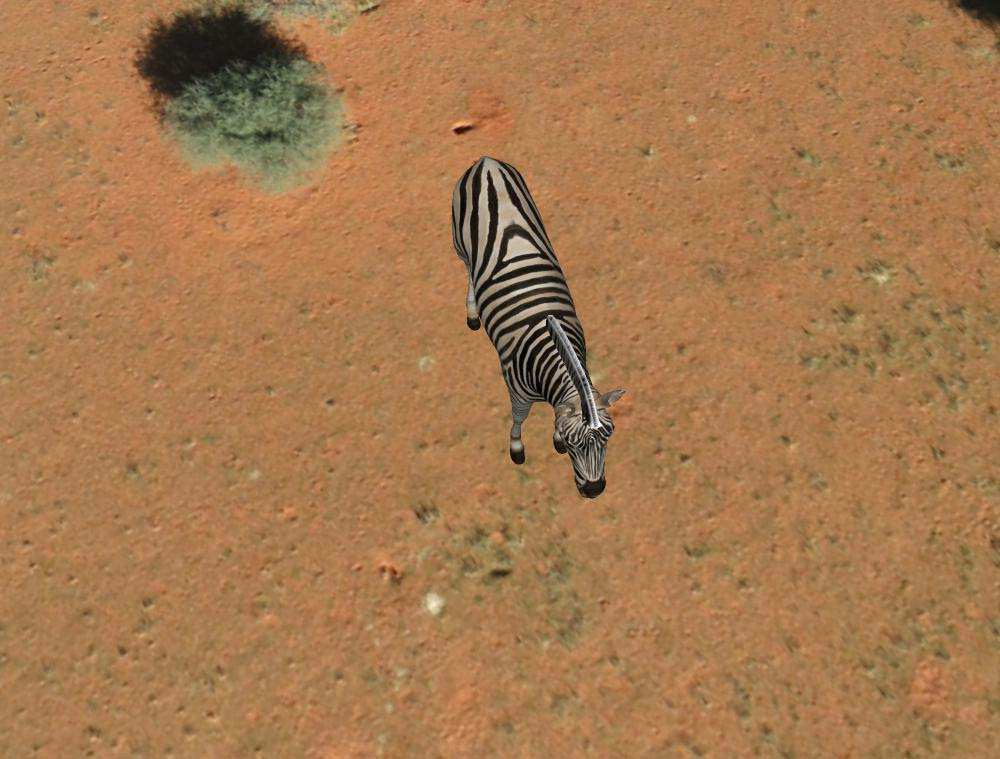zebra: (448, 151, 618, 504)
